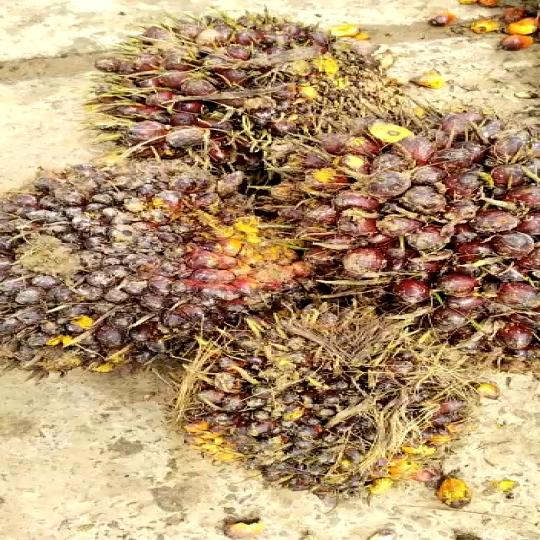kurang masak: (43, 5, 429, 187), (178, 298, 504, 505), (308, 103, 540, 381), (0, 165, 291, 383)
